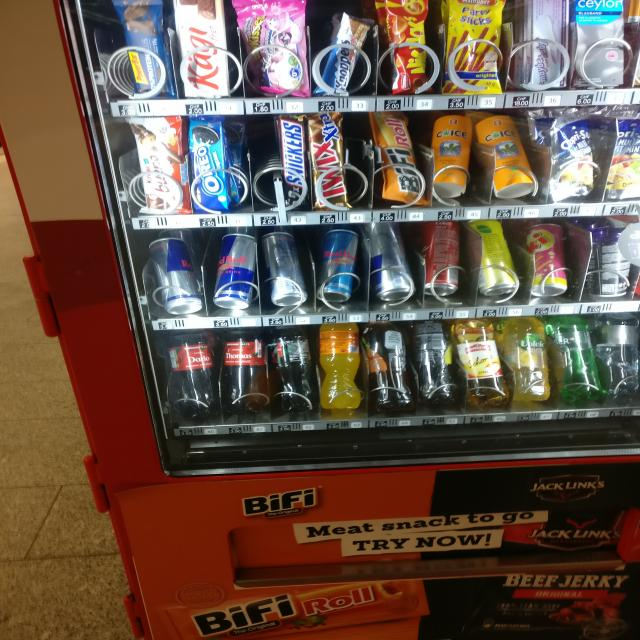bifi_roll__50__4251097402635: (366, 107, 432, 207)
bueno___43__4008400320328: (132, 115, 190, 215)
c-swiss_dosenabisicetea__33__9120025930135: (476, 111, 535, 196), (431, 111, 473, 199)
caferoyal_classicmacchiato__33__7617014164487: (585, 223, 630, 300)
caprisun_multivitamin__20__4000177605004: (547, 108, 603, 200), (605, 107, 640, 192)
coke__dose_33__54491472: (422, 218, 466, 295)
coke__flasche_50__54491472: (156, 326, 218, 408), (220, 324, 272, 412), (269, 326, 321, 409)
fanta___50__40822938: (320, 322, 365, 409)
fini_jellykisses_packung_80_1_8410525116704: (232, 0, 310, 98)
fuse_lemon__50__5449000235947: (411, 318, 461, 402)
fuse_lemon_dose_33__5449000235947: (468, 220, 524, 295)
fuse_peach__50__5449000236623: (362, 320, 415, 407)
kagi___50__7610046000259: (179, 0, 226, 99)
knoppers_riegel____4035800488808: (318, 11, 376, 94)
lorenz_nicnacs__40__4018077798818: (382, 0, 430, 93)
malburner_partysticks__40__7610200279682: (443, 0, 510, 95)
oreo___66__84100733: (190, 112, 223, 212)
powerbar_proteinplusschoko__55__4029679520028: (110, 1, 176, 97)
ramseier_schorle__50__7610057012456: (448, 316, 514, 404)
redbull___33__90162909: (364, 220, 419, 302), (147, 234, 204, 312), (315, 228, 370, 306), (260, 229, 314, 306), (209, 232, 257, 308)
snickers___50__5000159461122: (272, 112, 314, 212)
tiki_himbeer_brause__50__00000000009342: (524, 220, 575, 294)
twix___50__5000159459228: (303, 111, 358, 212)
valser_classic__50__76404160: (543, 314, 603, 398)
valser_still__50__7610335002575: (594, 311, 640, 398)
volvic_pinapple__50__305764335648: (498, 315, 556, 401)
